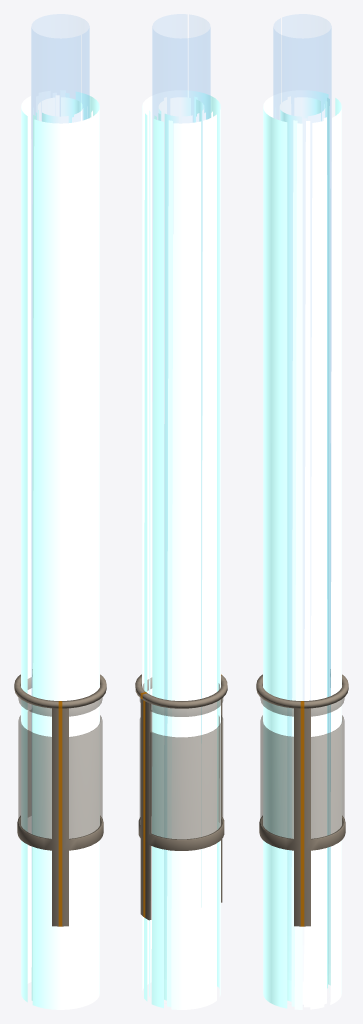
File: beam_mirage.glb
3 views of the same model, side by side, from view 1: azimuth 90°, elevation 25°; view 2: azimuth 210°, elevation 25°; view 3: azimuth 270°, elevation 25° (orthographic).
Parts seen in each view (by area): view 1: beam, frame, beam_static; view 2: beam, frame, beam_static; view 3: beam, frame, beam_static.
Part boxes in pixels (<box>): beam: <box>21,90,99,1009</box>; frame: <box>14,669,106,926</box>; beam_static: <box>31,28,89,731</box>; beam: <box>142,90,220,1009</box>; frame: <box>135,674,227,920</box>; beam_static: <box>152,28,210,400</box>; beam: <box>263,90,341,1009</box>; frame: <box>256,669,348,926</box>; beam_static: <box>273,28,331,881</box>.
Size of what is drawn, in the model's own units: 6.86 by 79.76 by 6.89.
Materials: 5 (5 with a texture image).
